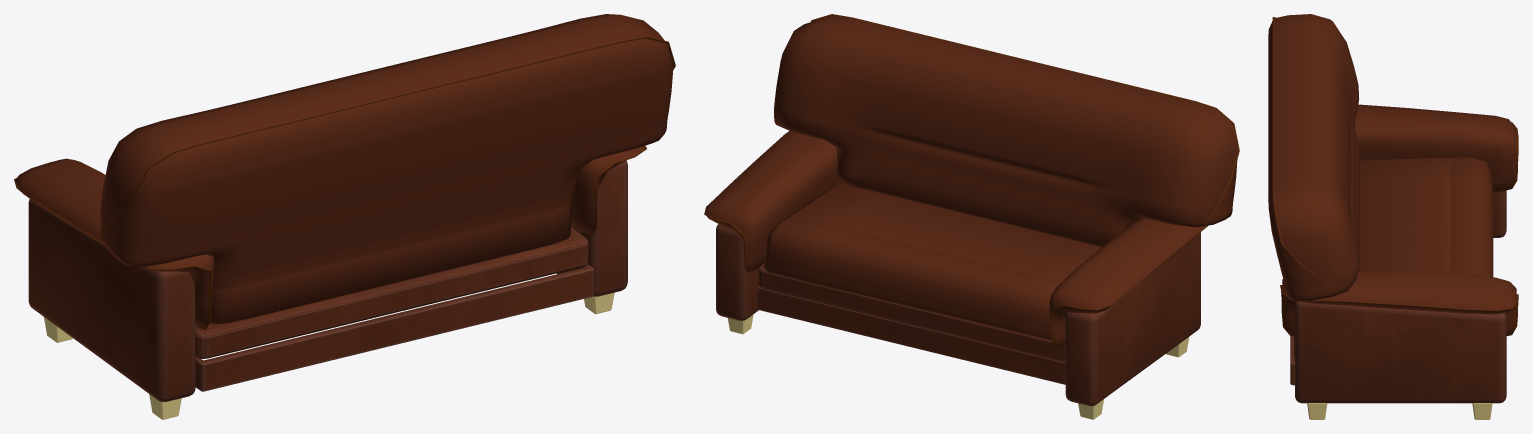
File: leather_sofacouch.glb
3 views of the same model, side by side, from view 1: azimuth 30°, elevation 25°; view 2: azimuth 150°, elevation 25°; view 3: azimuth 270°, elevation 25° (orthographic). The views are drawn at different scales.
Parts seen in each view (by area): view 1: SoftLeatherOBJS, HardLeather, Feets; view 2: SoftLeatherOBJS, HardLeather, Feets; view 3: SoftLeatherOBJS, HardLeather, Feets.
Part boxes in pixels (bbox=[...]): SoftLeatherOBJS: bbox=[14, 14, 675, 330]; HardLeather: bbox=[28, 160, 627, 401]; Feets: bbox=[44, 292, 614, 419]; SoftLeatherOBJS: bbox=[704, 14, 1239, 347]; HardLeather: bbox=[716, 224, 1200, 406]; Feets: bbox=[727, 314, 1189, 419]; SoftLeatherOBJS: bbox=[1268, 14, 1518, 336]; HardLeather: bbox=[1290, 190, 1506, 403]; Feets: bbox=[1307, 403, 1492, 419].
Size of the model in its own units: 1.41 by 0.7235 by 0.7101.
3 materials, 3 textured.
